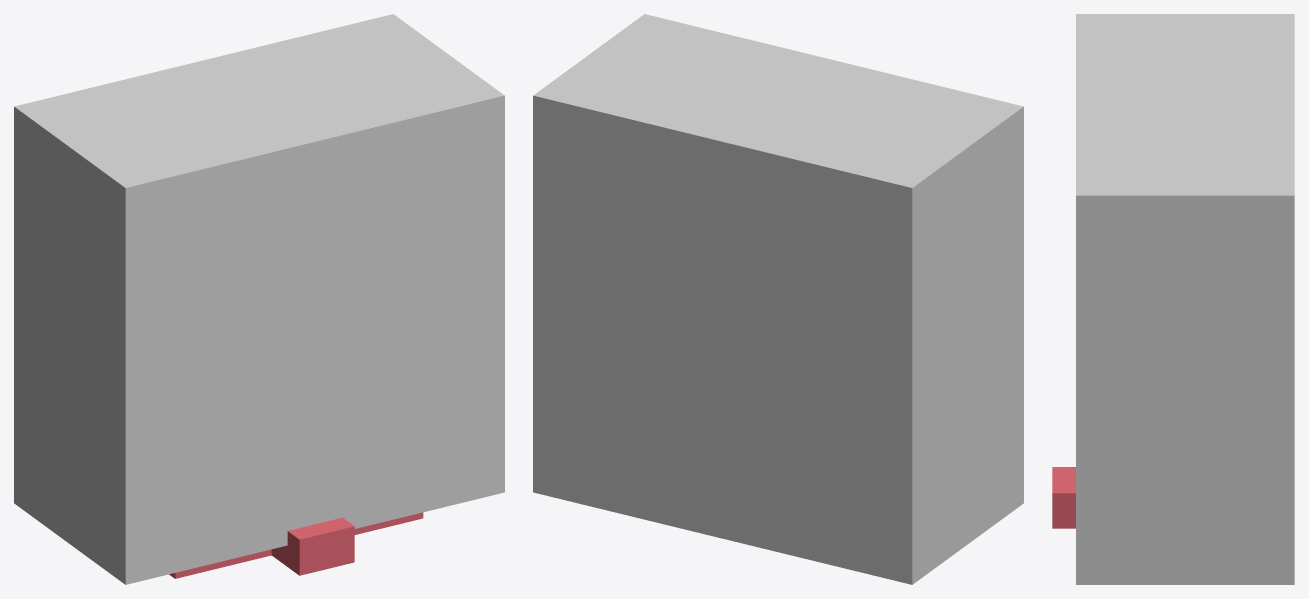
Rendered from pickup_health_pack.glb.
3 views of the same model, side by side, from view 1: azimuth 30°, elevation 25°; view 2: azimuth 150°, elevation 25°; view 3: azimuth 270°, elevation 25° (orthographic).
Parts seen in each view (by area): view 1: health_box, cross_v, cross_h; view 2: health_box; view 3: health_box, cross_v.
Part boxes in pixels (<box>): health_box: <box>14,14,504,584</box>; cross_v: <box>271,517,354,575</box>; cross_h: <box>169,512,423,578</box>; health_box: <box>533,14,1023,584</box>; health_box: <box>1076,14,1294,584</box>; cross_v: <box>1052,467,1075,528</box>.
Bounding box in the file's own units: 0.55 × 0.58 × 0.31.
